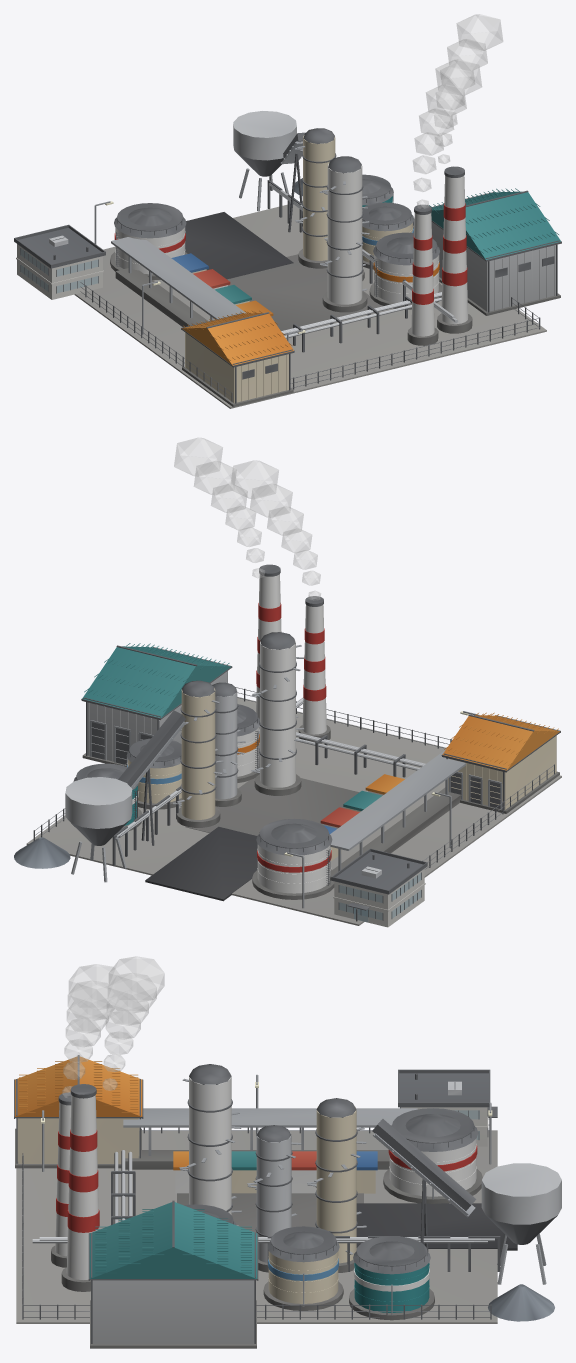
The model's file is Refinery_P2.fbx.
3 renders of one model, top to bottom at view 1: azimuth 30°, elevation 25°; view 2: azimuth 150°, elevation 25°; view 3: azimuth 270°, elevation 25°, orthographic. The views are drawn at different scales.
Parts seen in each view (by area): view 1: Refinery.Pad, Refinery.Hall, Refinery.Shed, Refinery.Col2, Refinery.Bay, Refinery.Office, Refinery.Smoke1, Refinery.Stack0, Refinery.Col0, Refinery.Smoke0, Refinery.Intake, Refinery.Tank0 (+9 smaller); view 2: Refinery.Pad, Refinery.Hall, Refinery.Shed, Refinery.Bay, Refinery.Col2, Refinery.Tank0, Refinery.Office, Refinery.Col0, Refinery.Smoke0, Refinery.Smoke1, Refinery.Intake, Refinery.Stack1 (+11 smaller); view 3: Refinery.Pad, Refinery.Hall, Refinery.Shed, Refinery.Col2, Refinery.Tank0, Refinery.Col0, Refinery.Tank1, Refinery.Tank2, Refinery.Intake, Refinery.Stack0, Refinery.Bay, Refinery.Smoke0 (+10 smaller).
Boxes of the visible parts, x1,y1,x2,y2 form: Refinery.Pad: (74,201,546,408); Refinery.Hall: (429,188,561,315); Refinery.Shed: (181,310,294,407); Refinery.Col2: (319,156,369,312); Refinery.Bay: (111,237,246,327); Refinery.Office: (14,224,105,299); Refinery.Smoke1: (413,59,481,208); Refinery.Stack0: (437,166,472,333); Refinery.Col0: (295,128,336,268); Refinery.Smoke0: (434,14,502,163); Refinery.Intake: (233,111,296,211); Refinery.Tank0: (110,203,187,280); Refinery.Pad: (26,697,561,925); Refinery.Hall: (81,643,232,766); Refinery.Shed: (441,712,560,813); Refinery.Bay: (330,751,465,880); Refinery.Col2: (251,632,304,795); Refinery.Tank0: (252,818,334,899); Refinery.Office: (331,848,427,927); Refinery.Col0: (173,680,223,827); Refinery.Smoke0: (174,437,264,577); Refinery.Smoke1: (231,460,320,600); Refinery.Intake: (65,777,132,882); Refinery.Stack1: (298,596,330,743); Refinery.Pad: (16,1130,517,1323); Refinery.Hall: (88,1200,258,1348); Refinery.Shed: (14,1055,143,1168); Refinery.Col2: (179,1064,241,1226); Refinery.Tank0: (383,1108,482,1203); Refinery.Col0: (307,1098,366,1272); Refinery.Tank1: (349,1236,434,1320); Refinery.Tank2: (263,1226,343,1310); Refinery.Intake: (481,1163,561,1284); Refinery.Stack0: (61,1084,99,1291); Refinery.Bay: (123,1108,417,1169); Refinery.Smoke0: (103,956,164,1090).
Size of the model in its own units: 8302 by 5886 by 8197.
